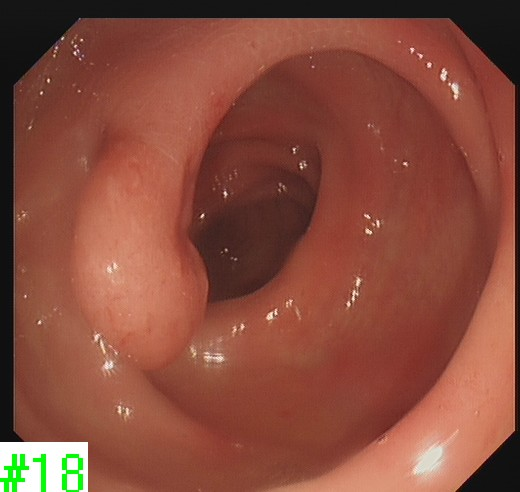adenoma: (68, 133, 211, 373)
